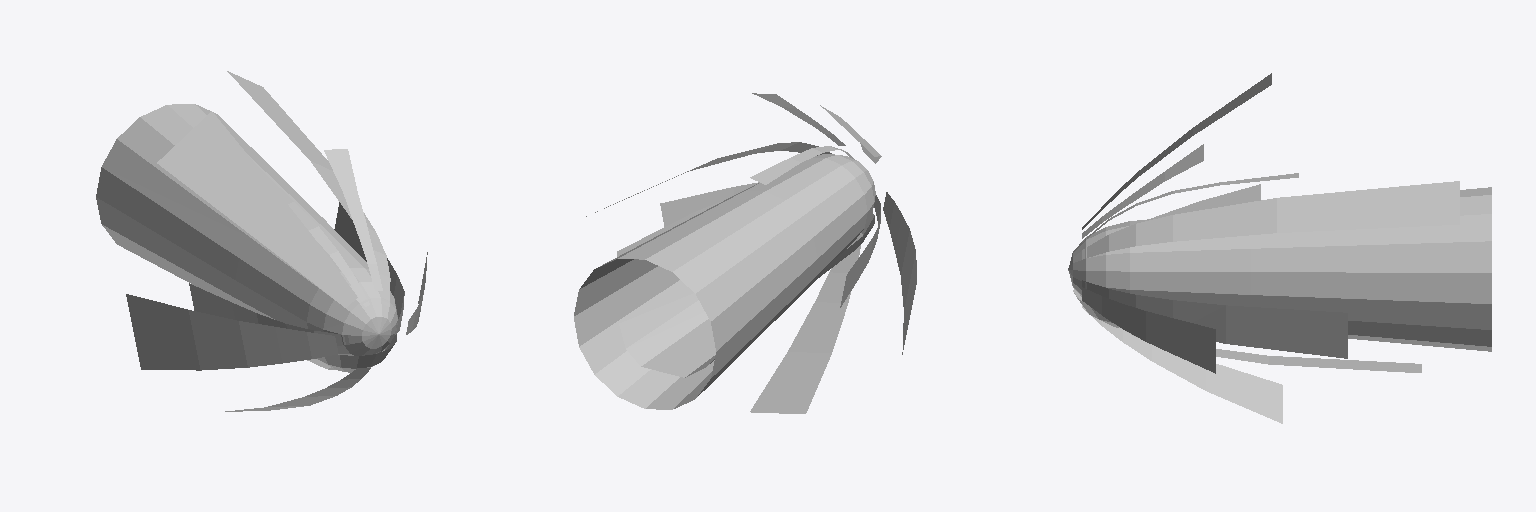
The model's file is EffFoxFirefox.obj.
The picture shows the model from 3 angles: view 1: azimuth 30°, elevation 25°; view 2: azimuth 150°, elevation 25°; view 3: azimuth 270°, elevation 25°; orthographic projection.
Parts seen in each view (by area): view 1: polygon1, polygon3, polygon2, polygon0; view 2: polygon1, polygon3, polygon0, polygon2; view 3: polygon1, polygon2, polygon3.
Boxes of the visible parts, box(x1,y1,x2,y2) form: polygon1: box(96, 104, 397, 355); polygon3: box(126, 111, 427, 411); polygon2: box(189, 71, 404, 369); polygon0: box(266, 316, 396, 372); polygon1: box(574, 154, 875, 409); polygon3: box(660, 93, 916, 413); polygon0: box(619, 213, 874, 377); polygon2: box(586, 142, 880, 307); polygon1: box(1068, 187, 1491, 351); polygon2: box(1082, 173, 1459, 372); polygon3: box(1082, 73, 1282, 423).
Bounding box in the file's own units: 39.48 × 43.08 × 51.8.